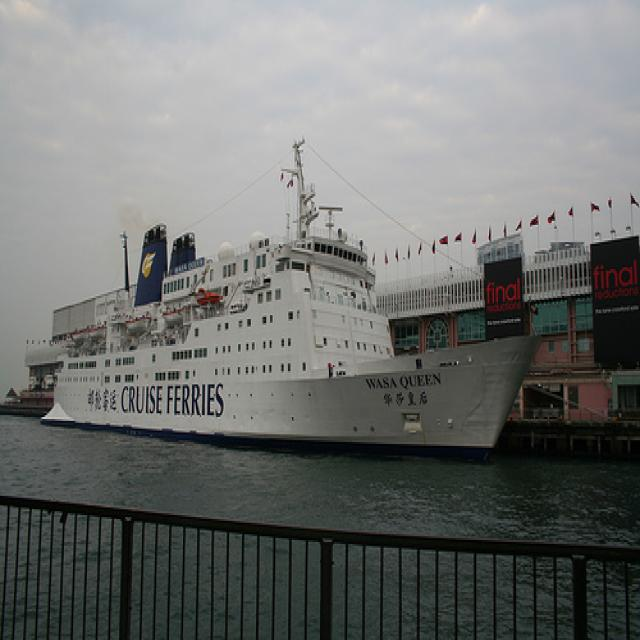boat: (41, 139, 544, 466)
